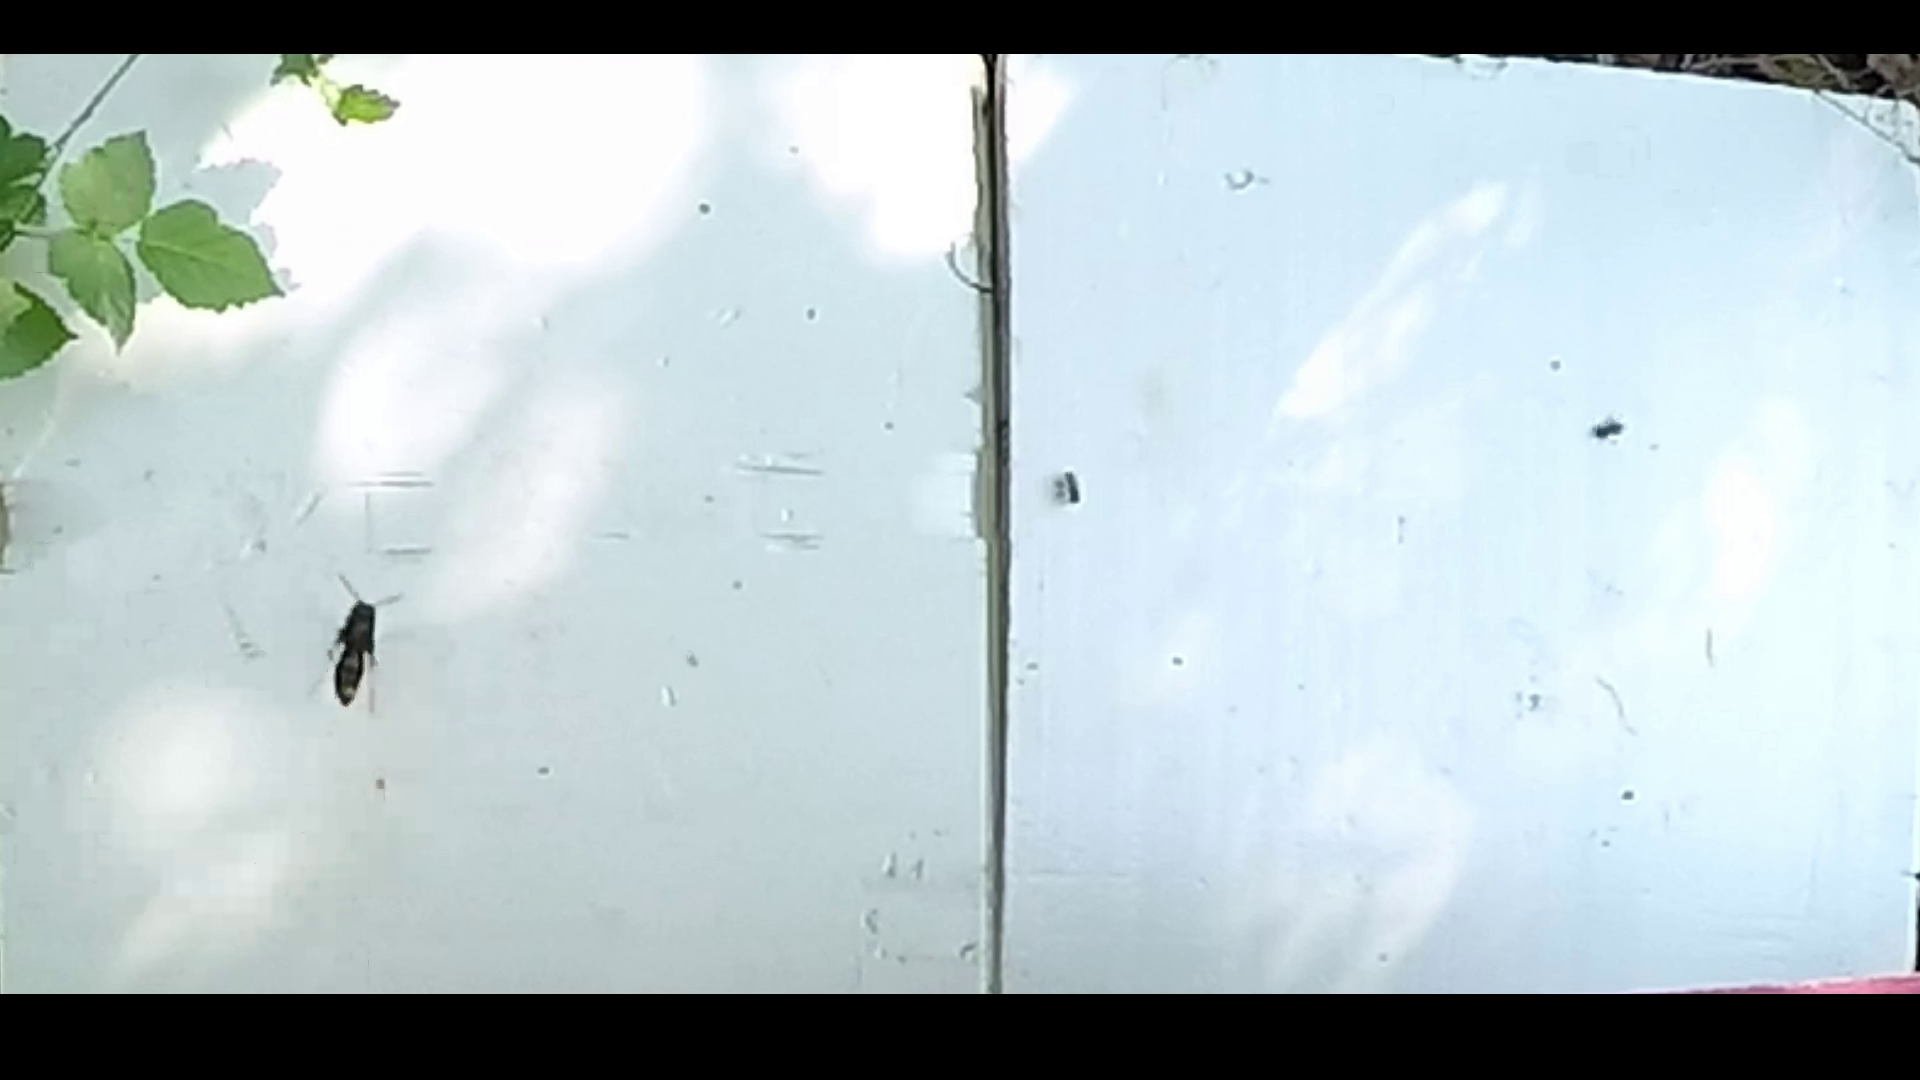Asian_hornets: (286, 555, 427, 735)
